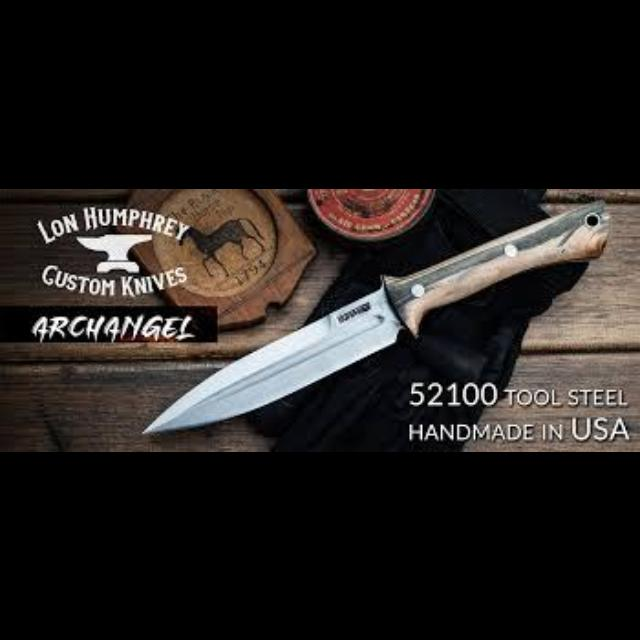Knife: (141, 198, 609, 434)
